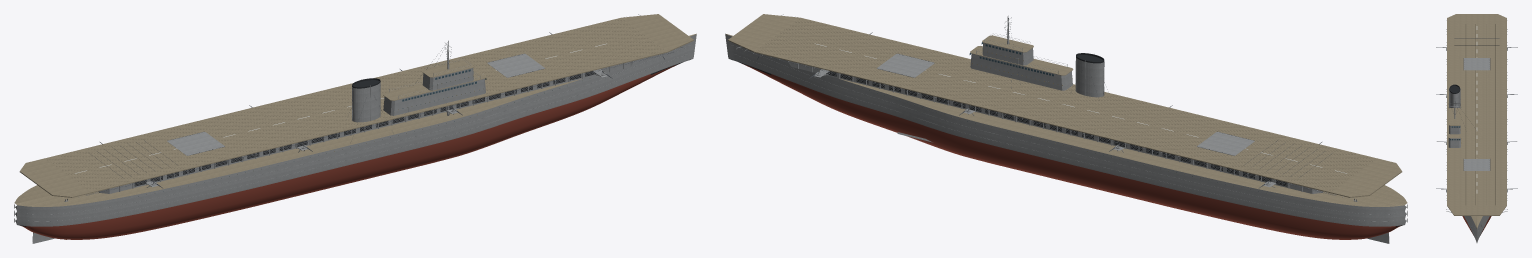
File: mare_cv32.glb
3 views of the same model, side by side, from view 1: azimuth 30°, elevation 25°; view 2: azimuth 150°, elevation 25°; view 3: azimuth 270°, elevation 25° (orthographic). The views are drawn at different scales.
Parts seen in each view (by area): view 1: Sparviero fleet carrier; view 2: Sparviero fleet carrier; view 3: Sparviero fleet carrier.
Boxes of the visible parts, bbox=[...] form: Sparviero fleet carrier: bbox=[14, 14, 696, 243]; Sparviero fleet carrier: bbox=[725, 14, 1407, 243]; Sparviero fleet carrier: bbox=[1436, 14, 1517, 242].
Bounding box in the file's own units: 220 × 37.24 × 35.46.
8 materials, 2 textured.
